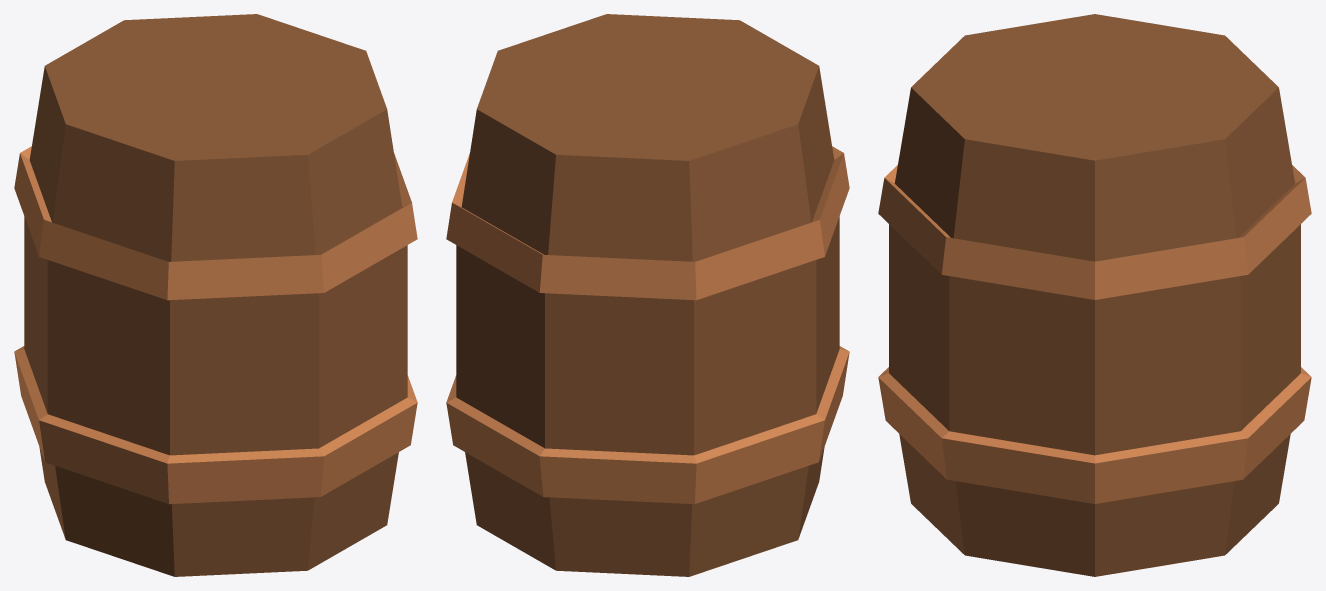
The model's file is cask.fbx.
3 renders of one model, left to right at view 1: azimuth 30°, elevation 25°; view 2: azimuth 150°, elevation 25°; view 3: azimuth 270°, elevation 25°, orthographic.
Parts seen in each view (by area): view 1: cask; view 2: cask; view 3: cask.
Boxes of the visible parts, box(x1,y1,x2,y2) form: cask: box(14, 14, 417, 576); cask: box(446, 14, 849, 576); cask: box(878, 14, 1311, 576).
Size of the model in its own units: 113 by 127 by 120.
Materials: 1 (1 with a texture image).
